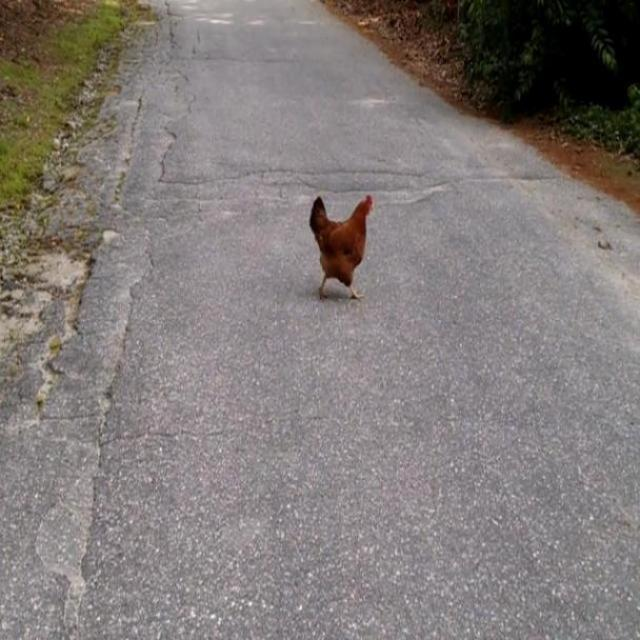Chicken: (309, 193, 374, 301)
